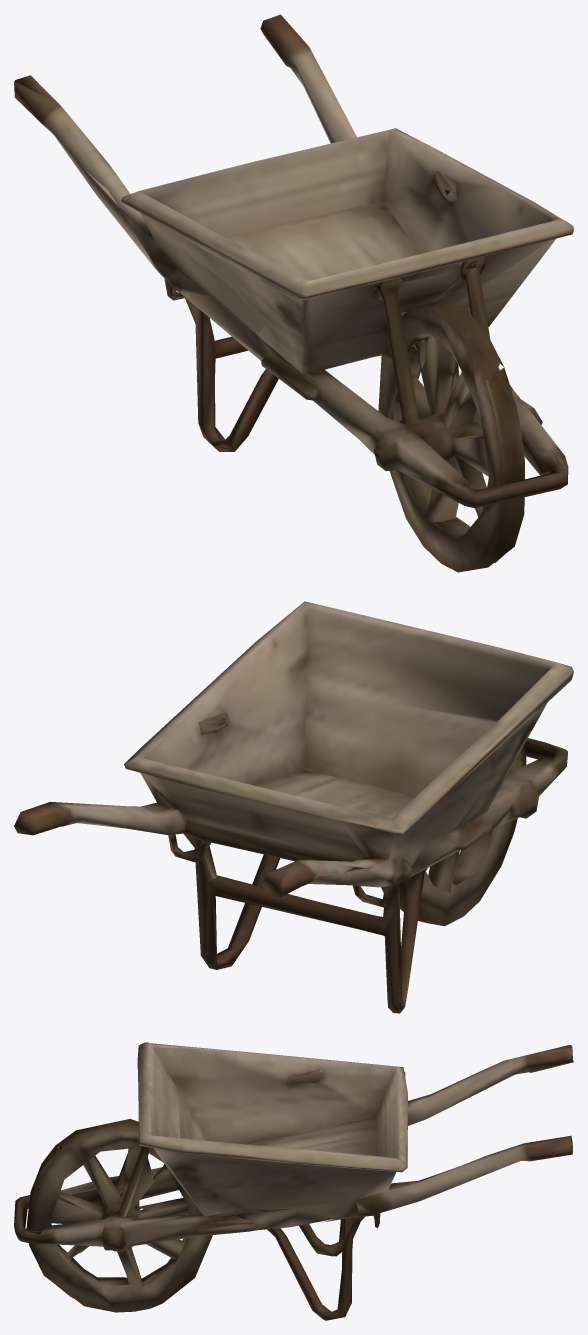
File: carretilla.movil.glb
3 renders of one model, top to bottom at view 1: azimuth 30°, elevation 25°; view 2: azimuth 150°, elevation 25°; view 3: azimuth 270°, elevation 25°, orthographic. The views are drawn at different scales.
Visible parts, largest first — view 1: geometry_0; view 2: geometry_0; view 3: geometry_0.
Part boxes in pixels (box(x1,y1,x2,y2)): geometry_0: box(14, 14, 573, 572); geometry_0: box(14, 601, 573, 1013); geometry_0: box(14, 1042, 573, 1320).
Size of the model in its own units: 0.6465 by 0.6491 by 1.5.
1 material, 1 textured.
